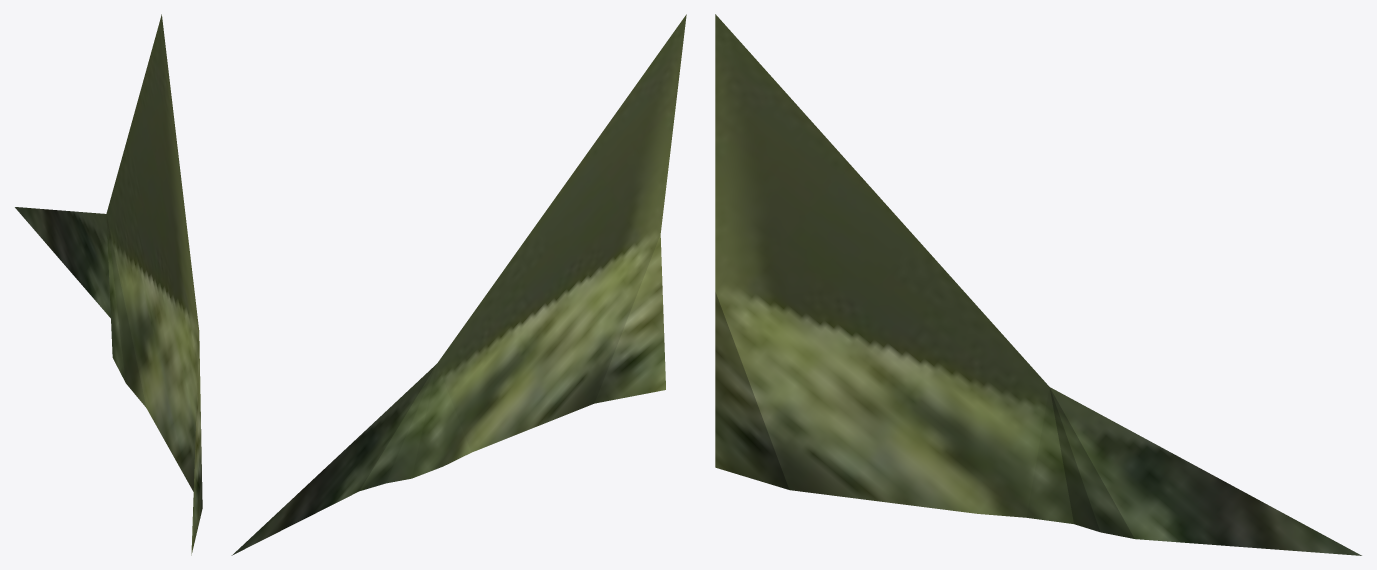
The picture shows the model from 3 angles, left to right: view 1: azimuth 30°, elevation 25°; view 2: azimuth 150°, elevation 25°; view 3: azimuth 270°, elevation 25°; orthographic projection. The views are drawn at different scales.
Size of the model in its own units: 3.72 by 7.67 by 10.17.
Materials: 1 (1 with a texture image).
